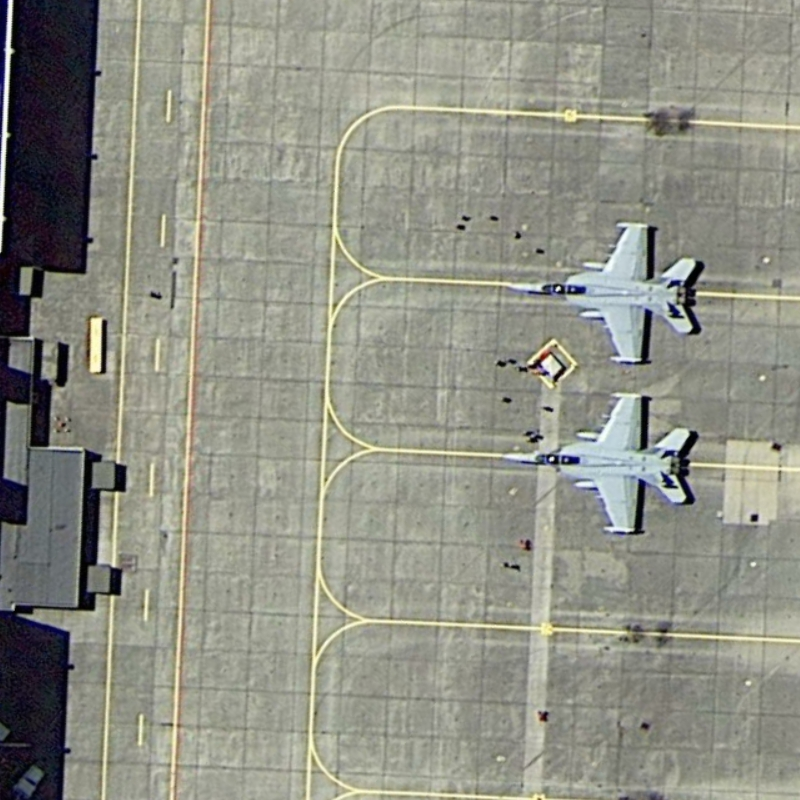A16: (493, 211, 710, 372), (488, 380, 702, 542)
